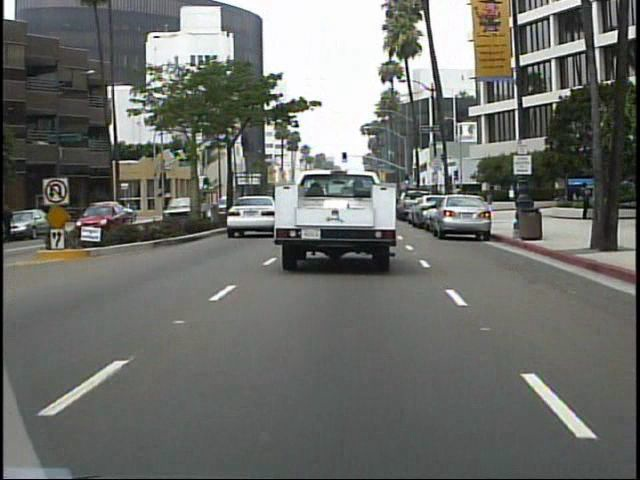person: (582, 177, 593, 225)
